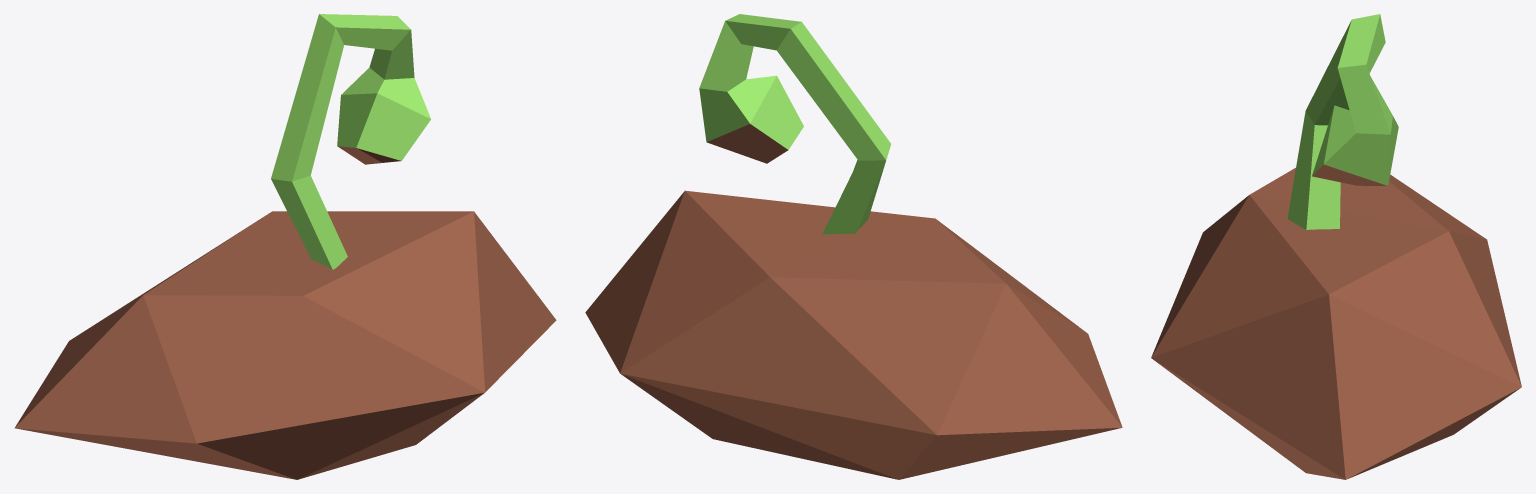
Rendered from cactusSeed.fbx.
3 renders of one model, left to right at view 1: azimuth 30°, elevation 25°; view 2: azimuth 150°, elevation 25°; view 3: azimuth 270°, elevation 25°, orthographic. The views are drawn at different scales.
Parts seen in each view (by area): view 1: CactusSeed; view 2: CactusSeed; view 3: CactusSeed.
Boxes of the visible parts, left/top/right/bottom form: CactusSeed: left=14, top=14, right=556, bottom=479; CactusSeed: left=585, top=14, right=1122, bottom=479; CactusSeed: left=1151, top=14, right=1521, bottom=479.
Size of the model in its own units: 228 by 170 by 133.
